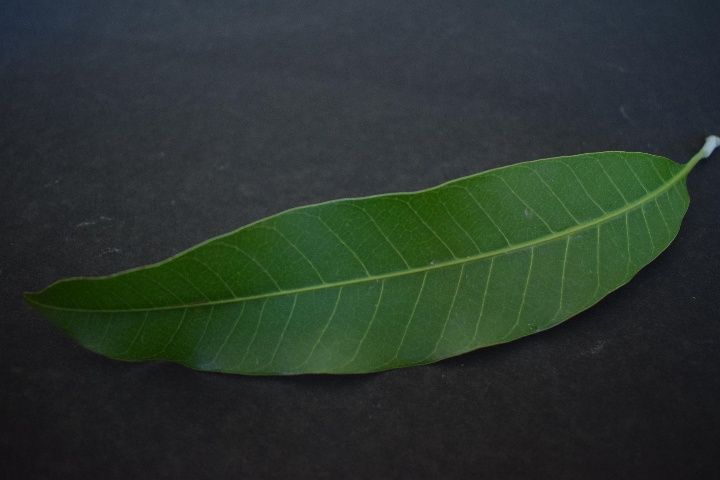healthy: (38, 152, 684, 373)
